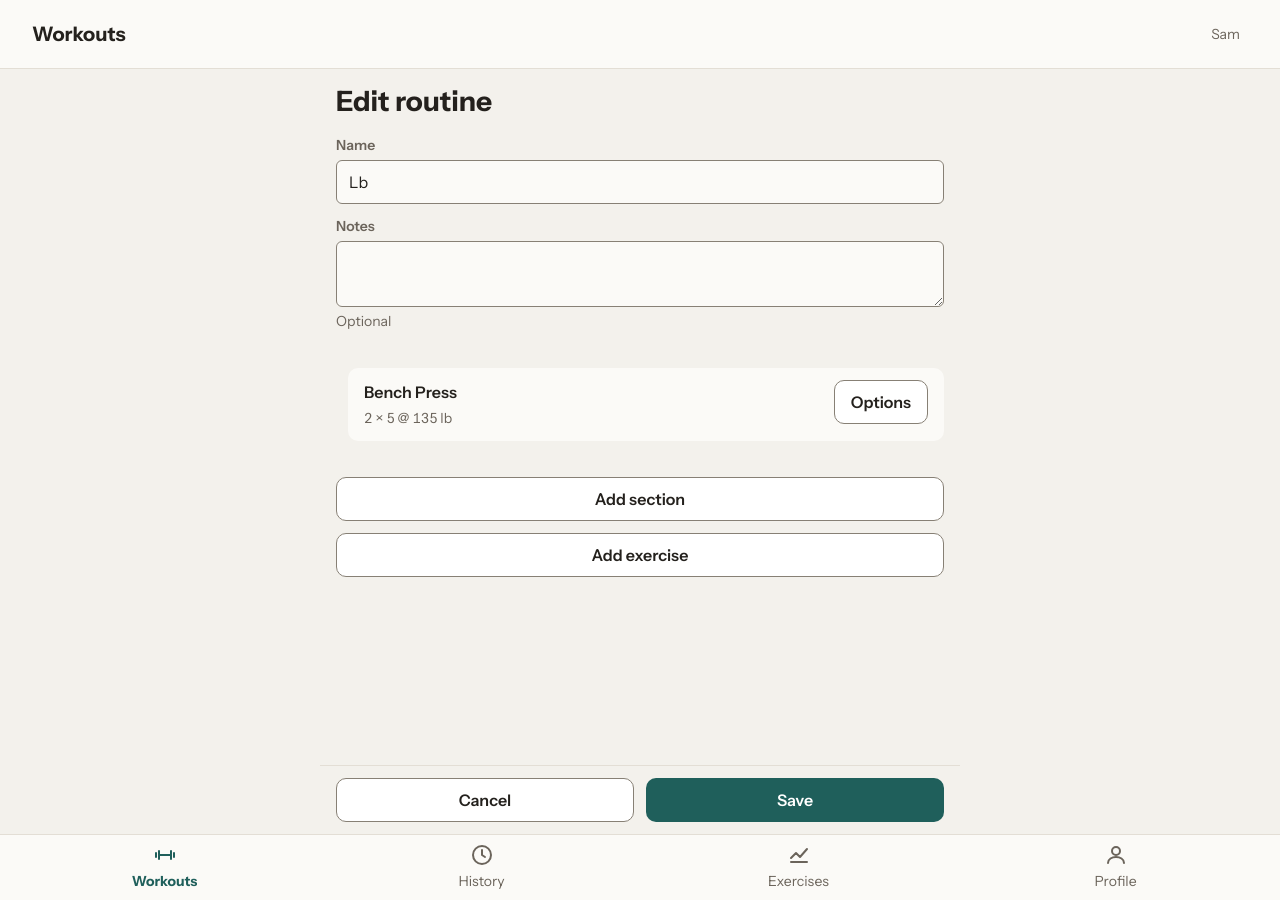
Test case: 10.2 AC10 — the sheet takes the profile's unit › shows the stored unit and weight of a routine saved in pounds, whatever the profile says
The width and height of the screenshot is (1280, 900).
Click the button "Bench Press 2 × 5 @ 135 lb": (410, 392) [364,380,822,429]
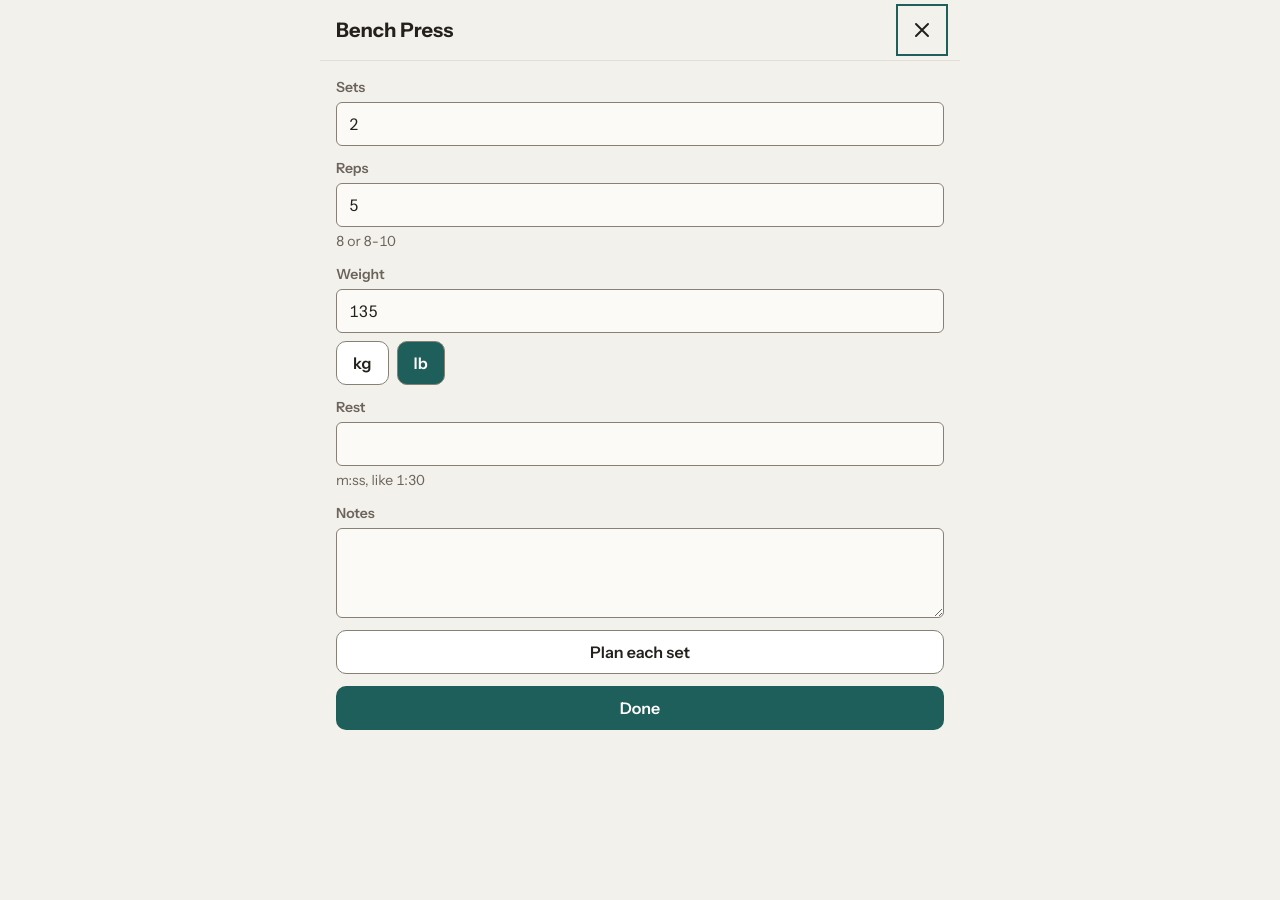
Check: the field labelled "Weight" holds "135", box [336,289,944,333]
